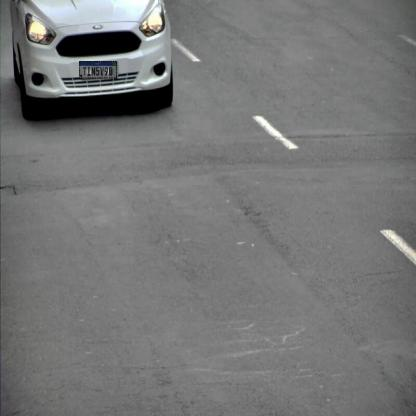PlacaM: (79, 61, 117, 78)
